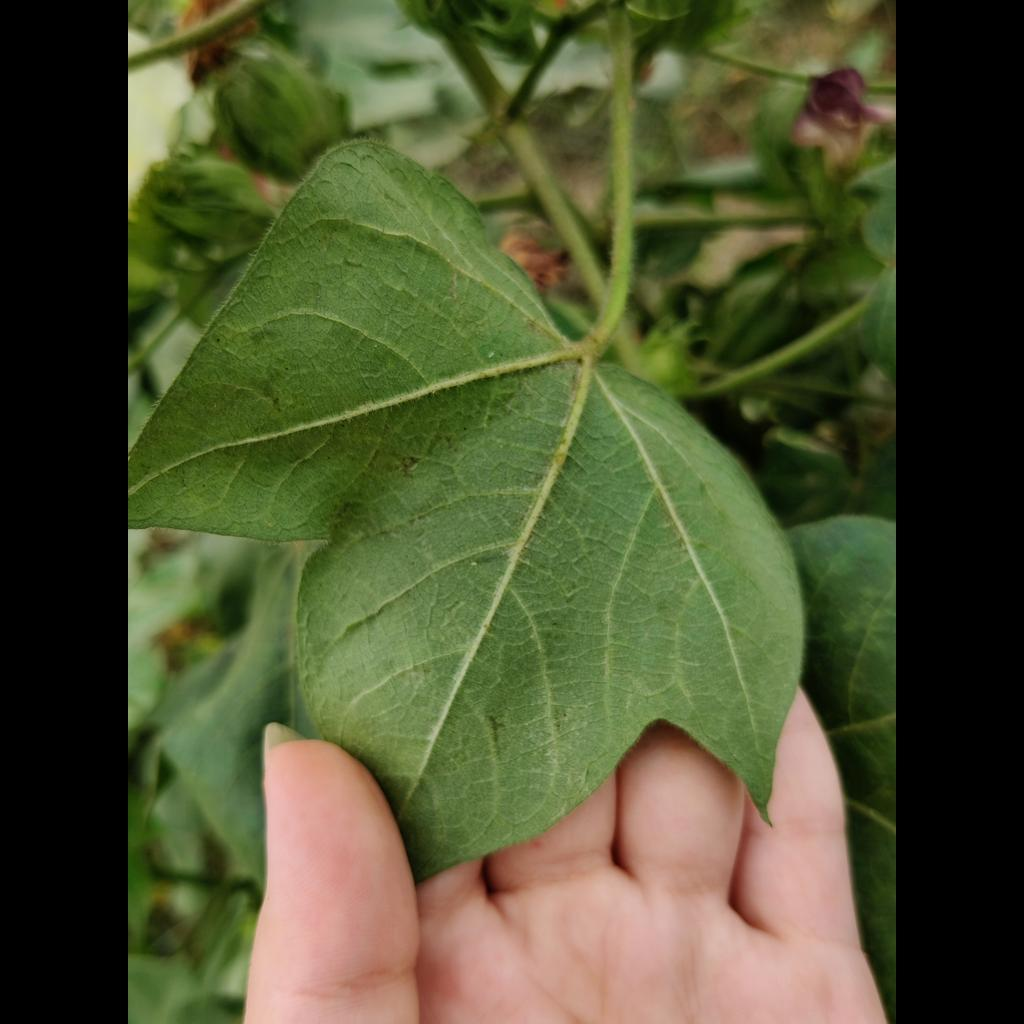nymph: (486, 350, 496, 360), (470, 561, 478, 567)
